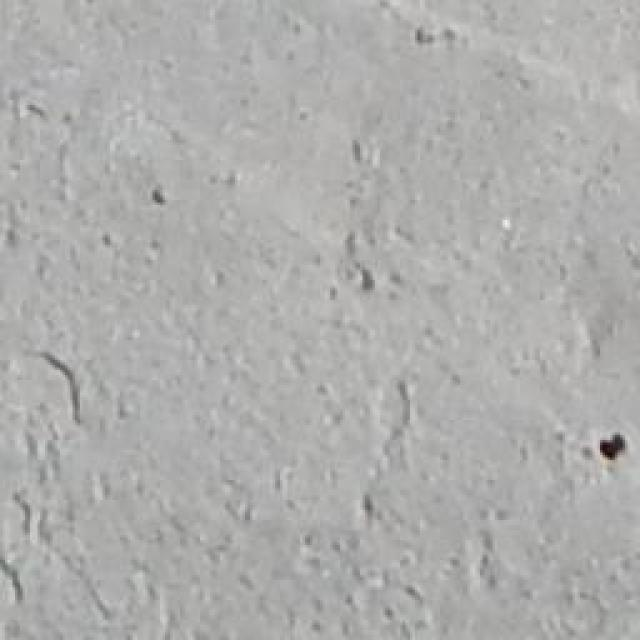concrete-crack: (23, 341, 91, 432), (598, 432, 628, 465)
